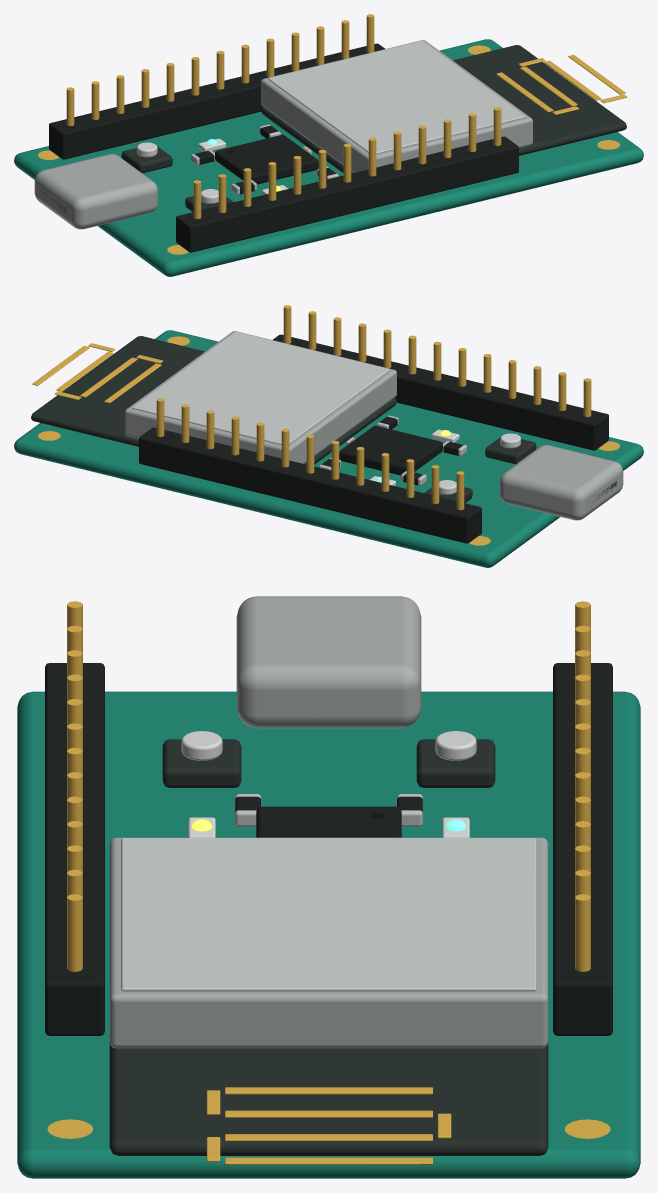
File: iot-module.glb
3 views of the same model, one above another, from view 1: azimuth 30°, elevation 25°; view 2: azimuth 150°, elevation 25°; view 3: azimuth 270°, elevation 25° (orthographic). The views are drawn at different scales.
Parts seen in each view (by area): view 1: radio-module, carrier-pcb, header (×2), usb-c, soic-body, button (×2); view 2: radio-module, carrier-pcb, header (×2), usb-c, soic-body, button (×2); view 3: radio-module, carrier-pcb, header (×2), usb-c, button (×2), antenna-bar (×4), soic-body, header-pin (×2).
Boxes of the visible parts, x1=… form: radio-module: x1=261, y1=40, x2=626, y2=173; carrier-pcb: x1=14, y1=39, x2=643, y2=276; header (×2): x1=49, y1=43, x2=518, y2=252; usb-c: x1=34, y1=154, x2=158, y2=229; soic-body: x1=215, y1=134, x2=318, y2=184; button (×2): x1=121, y1=142, x2=233, y2=211; radio-module: x1=31, y1=331, x2=396, y2=464; carrier-pcb: x1=14, y1=330, x2=643, y2=567; header (×2): x1=139, y1=334, x2=608, y2=543; usb-c: x1=499, y1=445, x2=623, y2=520; soic-body: x1=339, y1=425, x2=442, y2=475; button (×2): x1=424, y1=433, x2=536, y2=502; radio-module: x1=109, y1=837, x2=548, y2=1155; carrier-pcb: x1=17, y1=691, x2=640, y2=1178; header (×2): x1=45, y1=663, x2=612, y2=1035; usb-c: x1=236, y1=596, x2=421, y2=728; button (×2): x1=162, y1=731, x2=495, y2=787; antenna-bar (×4): x1=225, y1=1087, x2=432, y2=1164; soic-body: x1=256, y1=806, x2=401, y2=837; header-pin (×2): x1=67, y1=894, x2=590, y2=971.
Bounding box in the file's own units: 5.46 × 0.74 × 2.7.
